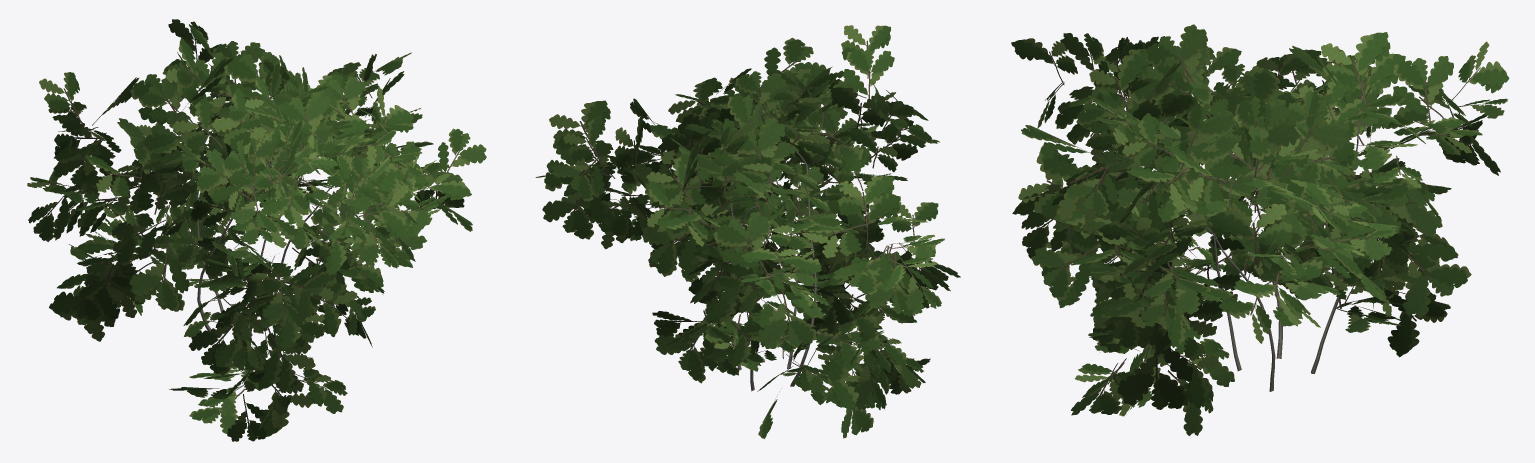
The model's file is bush_01.glb.
3 views of the same model, side by side, from view 1: azimuth 30°, elevation 25°; view 2: azimuth 150°, elevation 25°; view 3: azimuth 270°, elevation 25° (orthographic). The views are drawn at different scales.
Parts seen in each view (by area): view 1: gambel_oak_LOD0; view 2: gambel_oak_LOD0; view 3: gambel_oak_LOD0.
Part boxes in pixels (<box>): gambel_oak_LOD0: <box>27,19,486,441</box>; gambel_oak_LOD0: <box>535,25,960,438</box>; gambel_oak_LOD0: <box>1011,24,1509,435</box>.
Bounding box in the file's own units: 1.44 × 1.25 × 1.33.
Materials: 2 (2 with a texture image).
